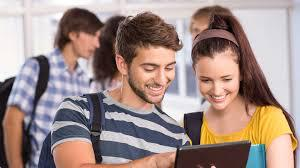Person: (188, 15, 298, 162), (109, 21, 185, 168), (25, 15, 103, 140)
